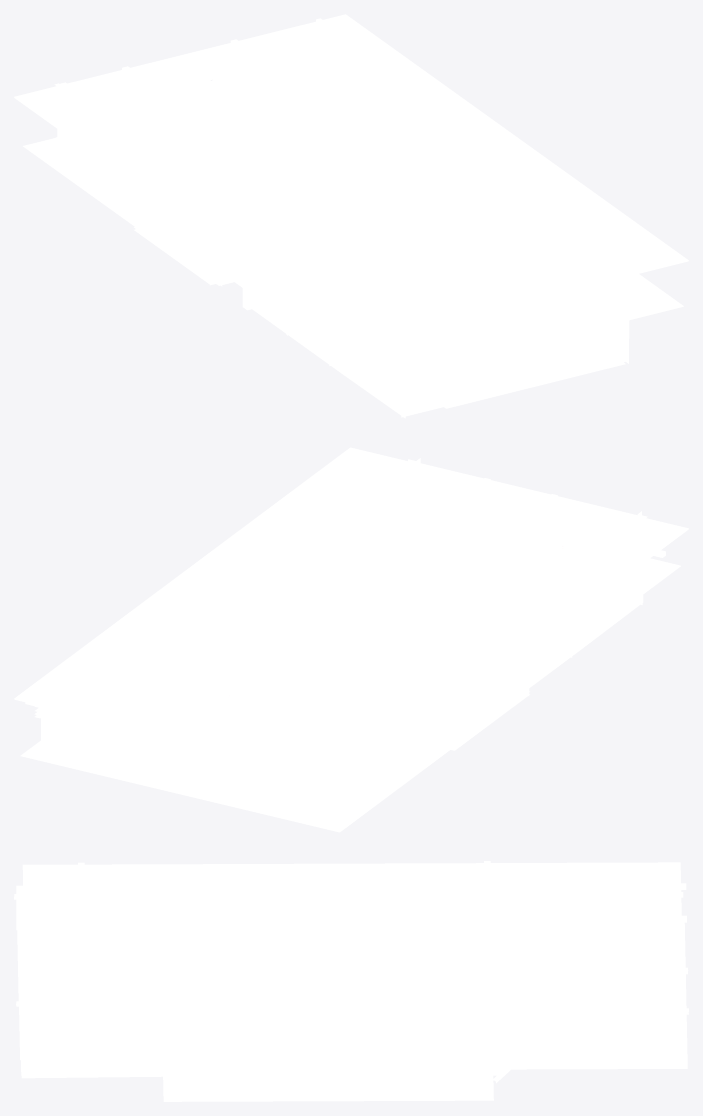
Rendered from stage.glb.
3 renders of one model, top to bottom at view 1: azimuth 30°, elevation 25°; view 2: azimuth 150°, elevation 25°; view 3: azimuth 270°, elevation 25°, orthographic. The views are drawn at different scales.
Parts seen in each view (by area): view 1: KORE_export_5_ceiling2_1_0_0, KORE_export_5_wall1_1_0_0, KORE_export_5_floor3_1_0_0, KORE_export_5_floor01_1_0_0, KORE_export_5_floor4_1_0_0, KORE_export_5_objects1_1_0_0; view 2: KORE_export_5_ceiling2_1_0_0, KORE_export_5_wall1_1_0_0, KORE_export_5_floor3_1_0_0, KORE_export_5_objects1_1_0_0, KORE_export_5_floor4_1_0_0, KORE_export_5_floor02_1_0_0; view 3: KORE_export_5_ceiling2_1_0_0, KORE_export_5_wall1_1_0_0, KORE_export_5_floor3_1_0_0.
Boxes of the visible parts, x1,y1,x2,y2 form: KORE_export_5_ceiling2_1_0_0: [14, 14, 688, 343]; KORE_export_5_wall1_1_0_0: [43, 17, 633, 418]; KORE_export_5_floor3_1_0_0: [23, 90, 683, 384]; KORE_export_5_floor01_1_0_0: [341, 259, 406, 293]; KORE_export_5_floor4_1_0_0: [443, 362, 625, 408]; KORE_export_5_objects1_1_0_0: [173, 47, 507, 325]; KORE_export_5_ceiling2_1_0_0: [14, 447, 688, 780]; KORE_export_5_wall1_1_0_0: [25, 458, 665, 822]; KORE_export_5_floor3_1_0_0: [20, 541, 680, 832]; KORE_export_5_objects1_1_0_0: [121, 523, 617, 739]; KORE_export_5_floor4_1_0_0: [308, 617, 396, 650]; KORE_export_5_floor02_1_0_0: [215, 635, 370, 709]; KORE_export_5_ceiling2_1_0_0: [22, 862, 683, 1073]; KORE_export_5_wall1_1_0_0: [14, 861, 688, 1083]; KORE_export_5_floor3_1_0_0: [19, 922, 687, 1101].
Bounding box in the file's own units: 10.26 × 3.58 × 18.
Materials: 8 (8 with a texture image).
